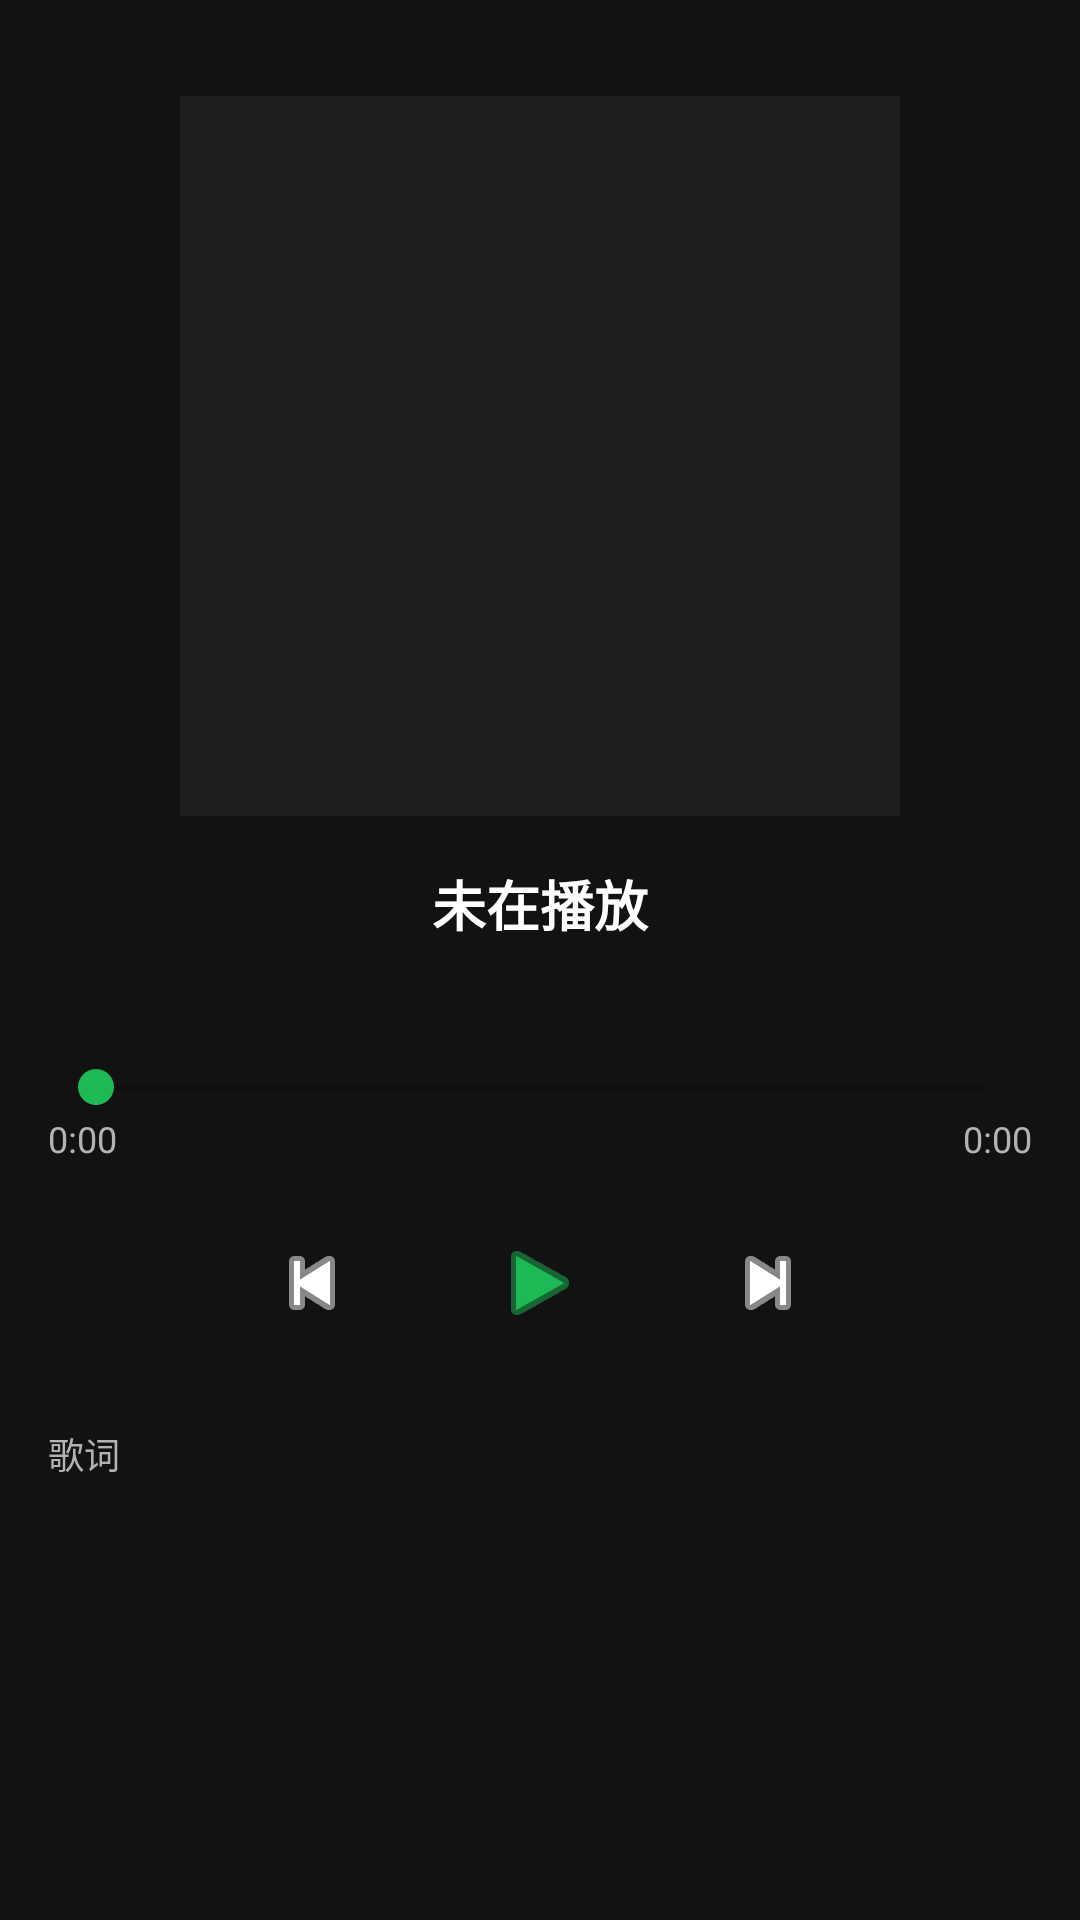

Locate icon controls on the screen. Image size 1080 × 1920, boxes as (x1, y1, x2, y2).
next: (745, 1256, 791, 1310)
play: (511, 1251, 569, 1315)
previous: (289, 1256, 335, 1310)
